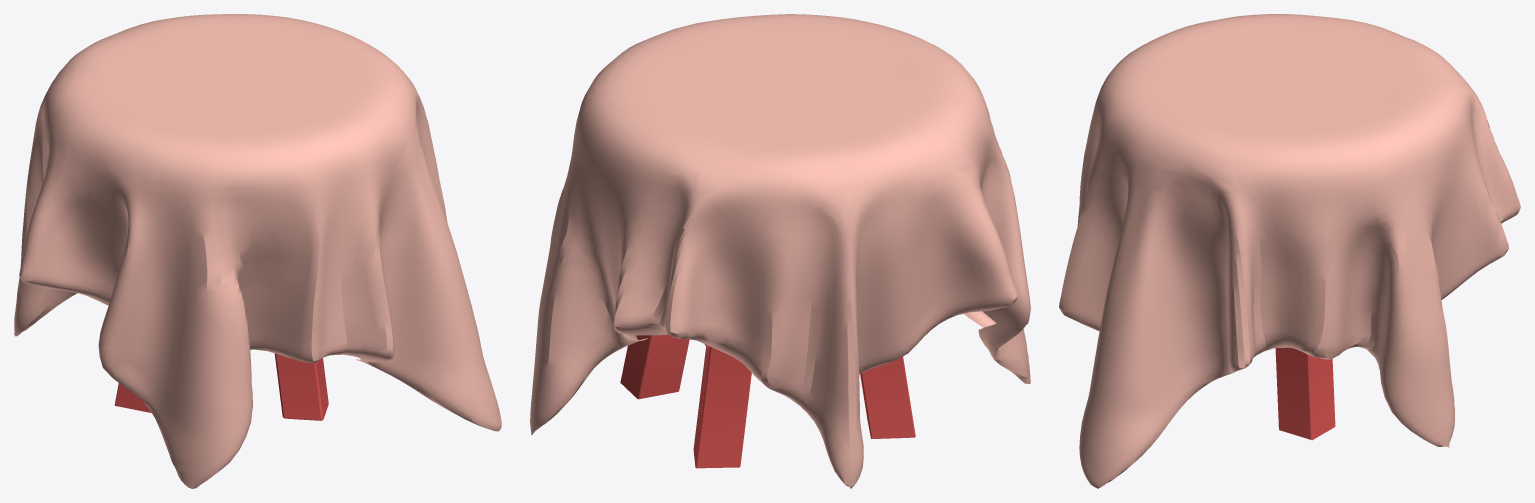
Rendered from Table_01.fbx.
3 renders of one model, left to right at view 1: azimuth 30°, elevation 25°; view 2: azimuth 150°, elevation 25°; view 3: azimuth 270°, elevation 25°, orthographic. The views are drawn at different scales.
Parts seen in each view (by area): view 1: Cylinder.049; view 2: Cylinder.049; view 3: Cylinder.049.
Boxes of the visible parts, x1,y1,x2,y2 form: Cylinder.049: [14, 14, 501, 488]; Cylinder.049: [530, 14, 1030, 488]; Cylinder.049: [1059, 14, 1520, 488].
Size of the model in its own units: 129 by 96.87 by 125.
